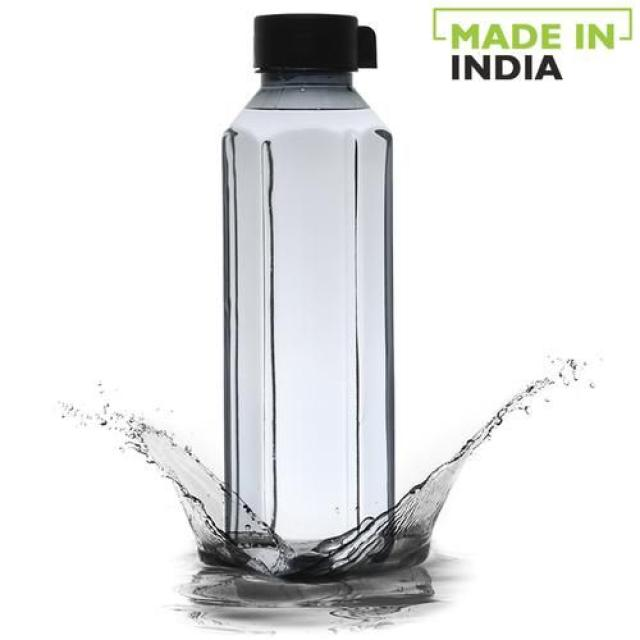bottom: (222, 506, 400, 573)
cap: (228, 6, 395, 117)
